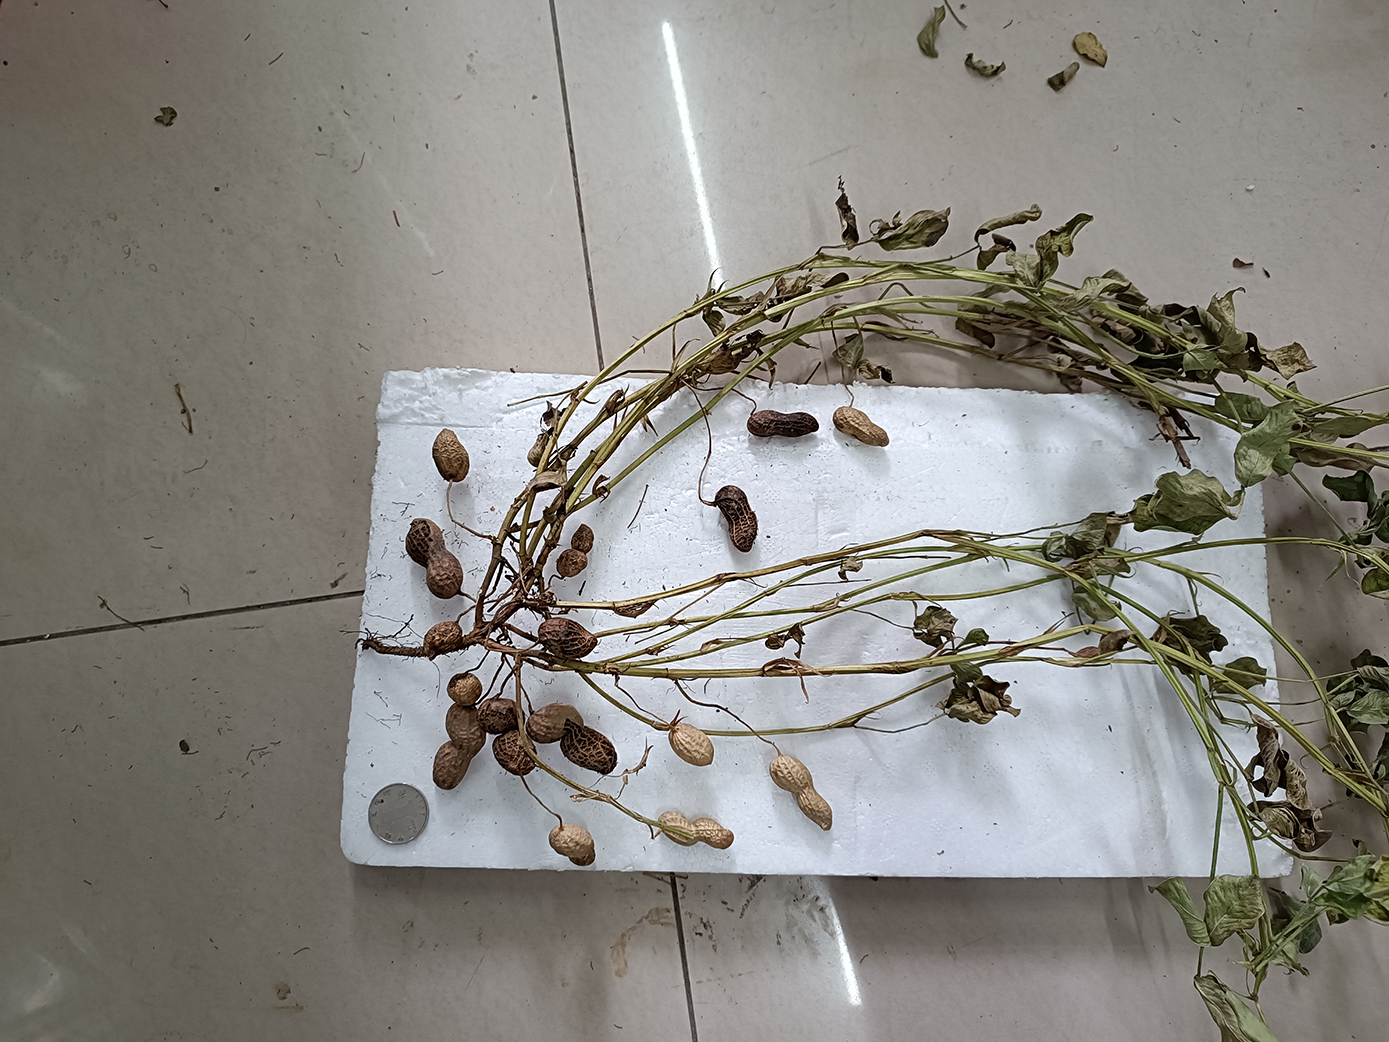h: (432, 702, 485, 791), (769, 755, 832, 831), (656, 810, 736, 850), (832, 406, 890, 447), (431, 428, 470, 482), (668, 723, 714, 767), (549, 824, 597, 866), (445, 672, 483, 705)
l: (526, 702, 617, 775), (405, 517, 463, 600), (714, 484, 759, 553), (537, 616, 597, 659), (555, 522, 595, 578), (491, 729, 537, 776), (746, 409, 819, 438), (476, 698, 525, 736), (423, 620, 462, 655)
